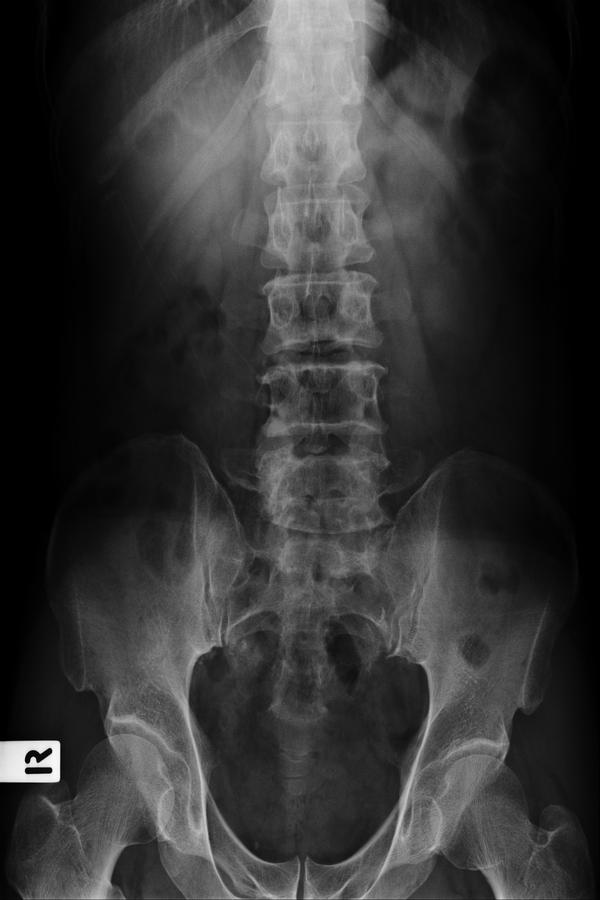lumbar scoliosis: (257, 169, 395, 541)
